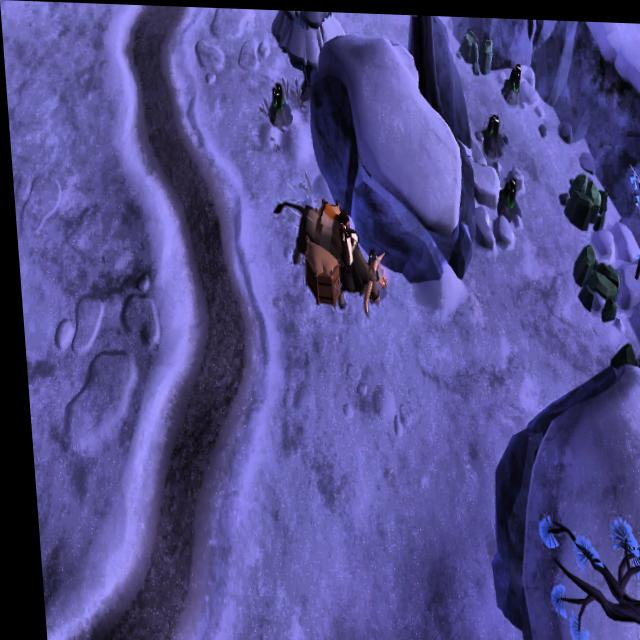ore_t3: (478, 105, 502, 149), (501, 55, 524, 99), (266, 79, 287, 123), (497, 170, 519, 206)
rock_t3: (562, 237, 620, 317), (551, 156, 608, 225), (451, 22, 496, 78), (604, 326, 640, 385)
